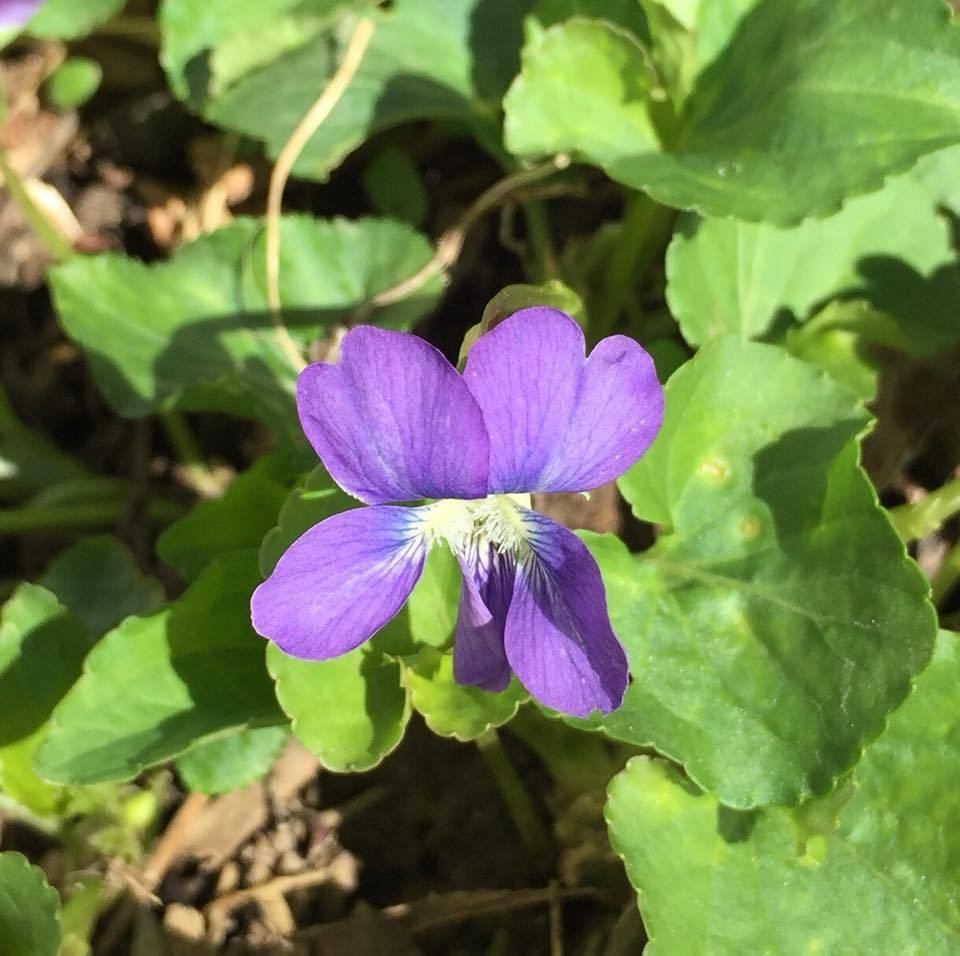violet: (260, 315, 663, 740)
